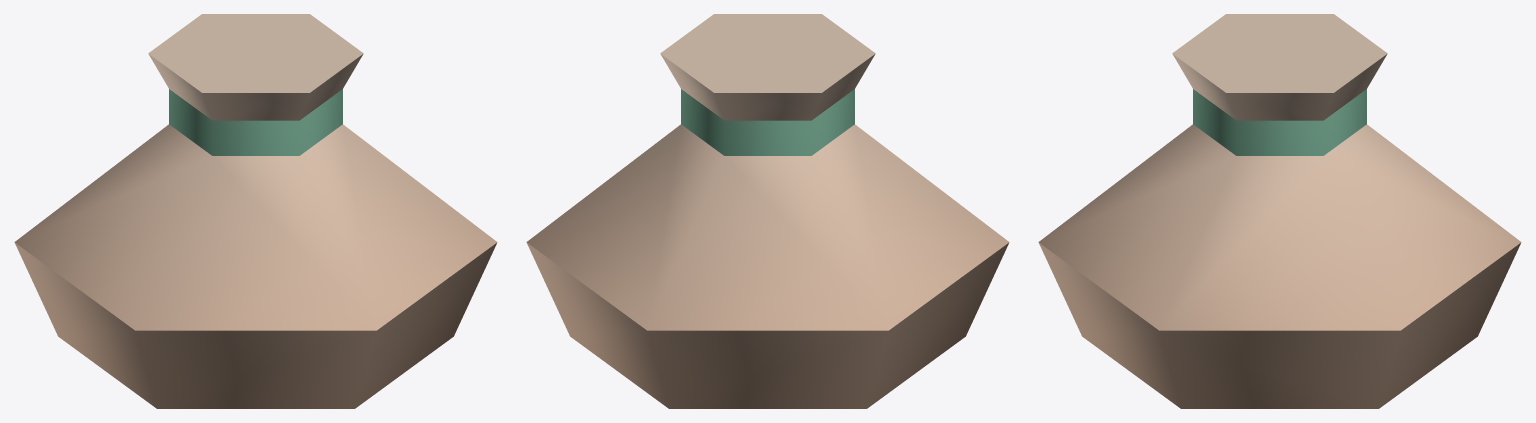
The model's file is dim-sum.glb.
3 renders of one model, left to right at view 1: azimuth 30°, elevation 25°; view 2: azimuth 150°, elevation 25°; view 3: azimuth 270°, elevation 25°, orthographic.
Parts seen in each view (by area): view 1: dim-sum; view 2: dim-sum; view 3: dim-sum.
Part boxes in pixels (<box>): dim-sum: <box>14,14,497,408</box>; dim-sum: <box>526,14,1009,408</box>; dim-sum: <box>1038,14,1521,408</box>.
Size of the model in its own units: 0.1607 by 0.12 by 0.1856.
